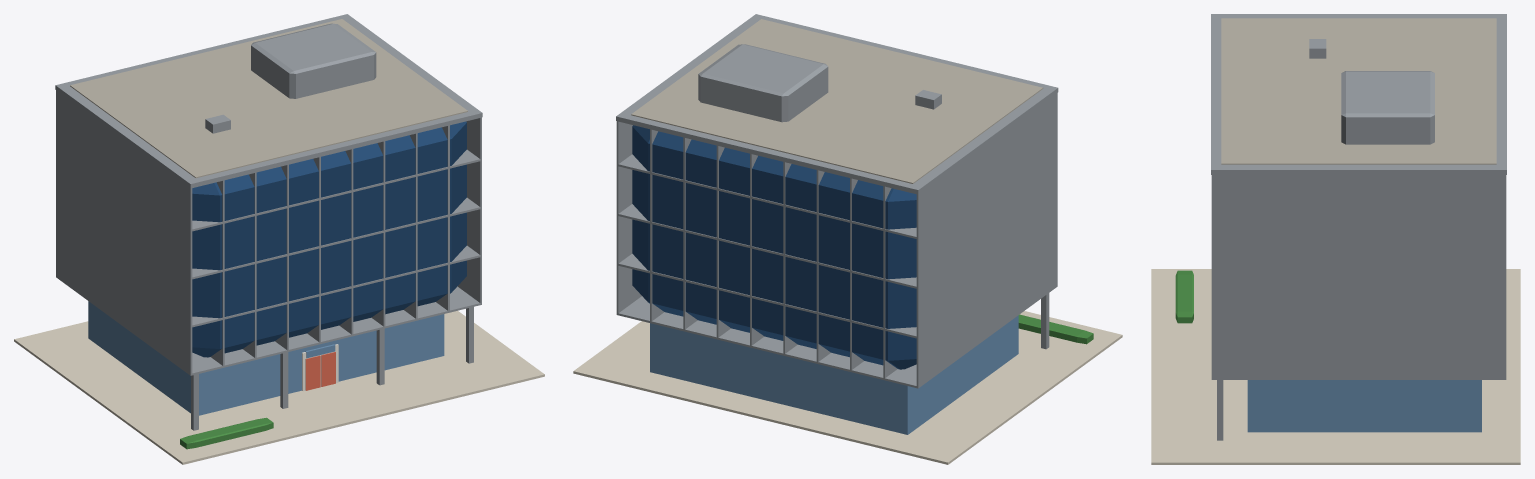
Rendered from office_f5_ribbon_w24.glb.
3 renders of one model, left to right at view 1: azimuth 30°, elevation 25°; view 2: azimuth 150°, elevation 25°; view 3: azimuth 270°, elevation 25°, orthographic. The views are drawn at different scales.
Visible parts, largest first — view 1: slab, roofslab, mullv, plaza, lobby, roofband, penthouse, mullh, mullv.009, planter, mullh.001, mullh.003 (+8 smaller); view 2: slab, roofslab, mullv, plaza, lobby, roofband, penthouse, mullh, mullv.009, mullh.002, mullh.003, mullh.001 (+8 smaller); view 3: mullv.009, roofslab, plaza, lobby, roofband, penthouse, planter, piloti.003.
Boxes of the visible parts, x1,y1,x2,y2 form: slab: [192, 121, 466, 357]; roofslab: [70, 19, 467, 178]; mullv: [56, 90, 192, 375]; plaza: [14, 310, 544, 464]; lobby: [88, 301, 444, 415]; roofband: [55, 14, 482, 188]; penthouse: [251, 23, 376, 98]; mullh: [190, 286, 481, 375]; mullv.009: [457, 117, 481, 304]; planter: [180, 417, 273, 449]; mullh.001: [190, 245, 481, 327]; mullh.003: [190, 149, 481, 231]; slab: [632, 125, 916, 369]; roofslab: [631, 19, 1043, 183]; mullv: [916, 93, 1057, 388]; plaza: [573, 311, 1122, 464]; lobby: [650, 315, 1018, 434]; roofband: [616, 14, 1058, 194]; penthouse: [698, 44, 828, 122]; mullh: [617, 296, 918, 388]; mullv.009: [616, 121, 641, 314]; mullh.002: [617, 204, 918, 288]; mullh.003: [617, 154, 918, 239]; mullh.001: [618, 253, 918, 338]; mullv.009: [1211, 175, 1506, 379]; roofslab: [1221, 18, 1496, 164]; plaza: [1151, 269, 1520, 464]; lobby: [1247, 380, 1481, 432]; roofband: [1211, 14, 1506, 174]; penthouse: [1341, 71, 1434, 144]; planter: [1175, 270, 1193, 323]; piloti.003: [1217, 380, 1223, 440].
Bounding box in the file's own units: 30 × 22.18 × 24.2.
